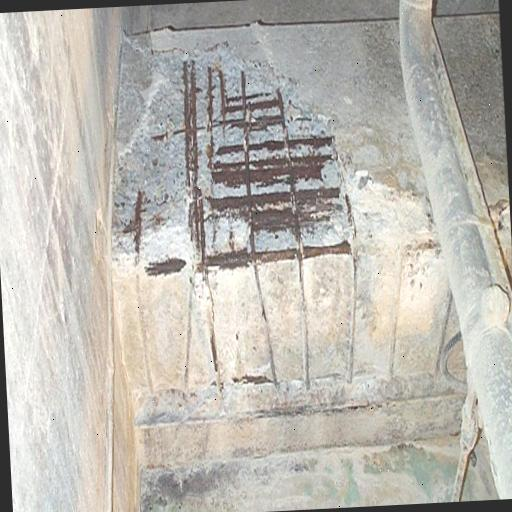spalling: (113, 43, 360, 277), (244, 274, 292, 408), (202, 290, 229, 405)
